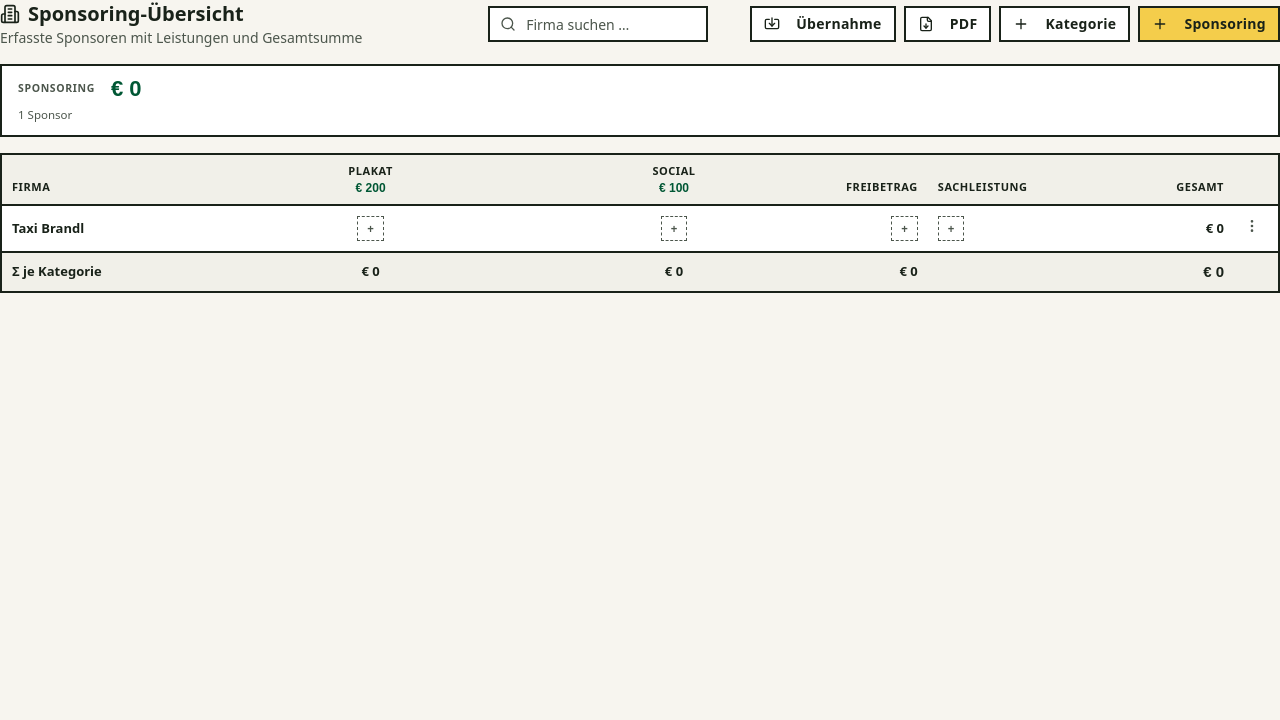
Test: SponsoringsSection — Zellklick schreibt › legt ein Sponsoring als nackte Verknüpfung an, ohne Häkchenliste
Click the button "Sponsoring". click: (1209, 24)
box: [1138,6,1279,42]
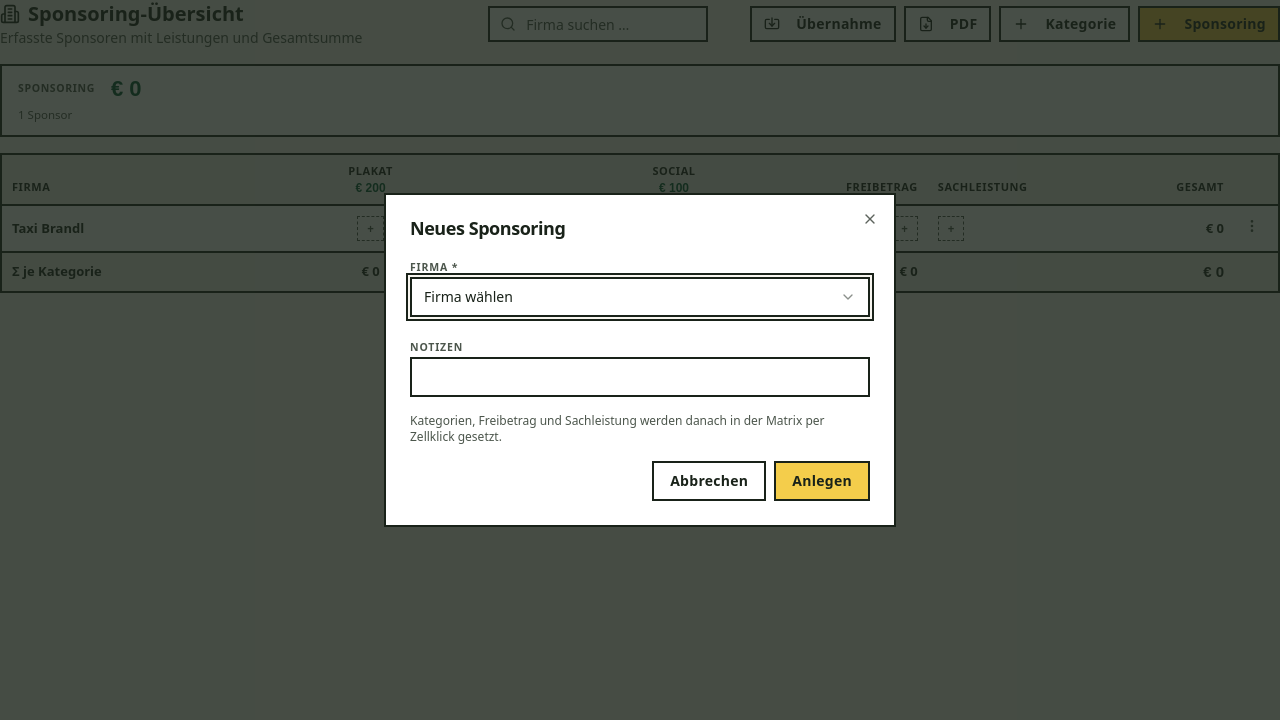
expect the dialog shows "Neues Sponsoring": met, box [410,216,565,240]
